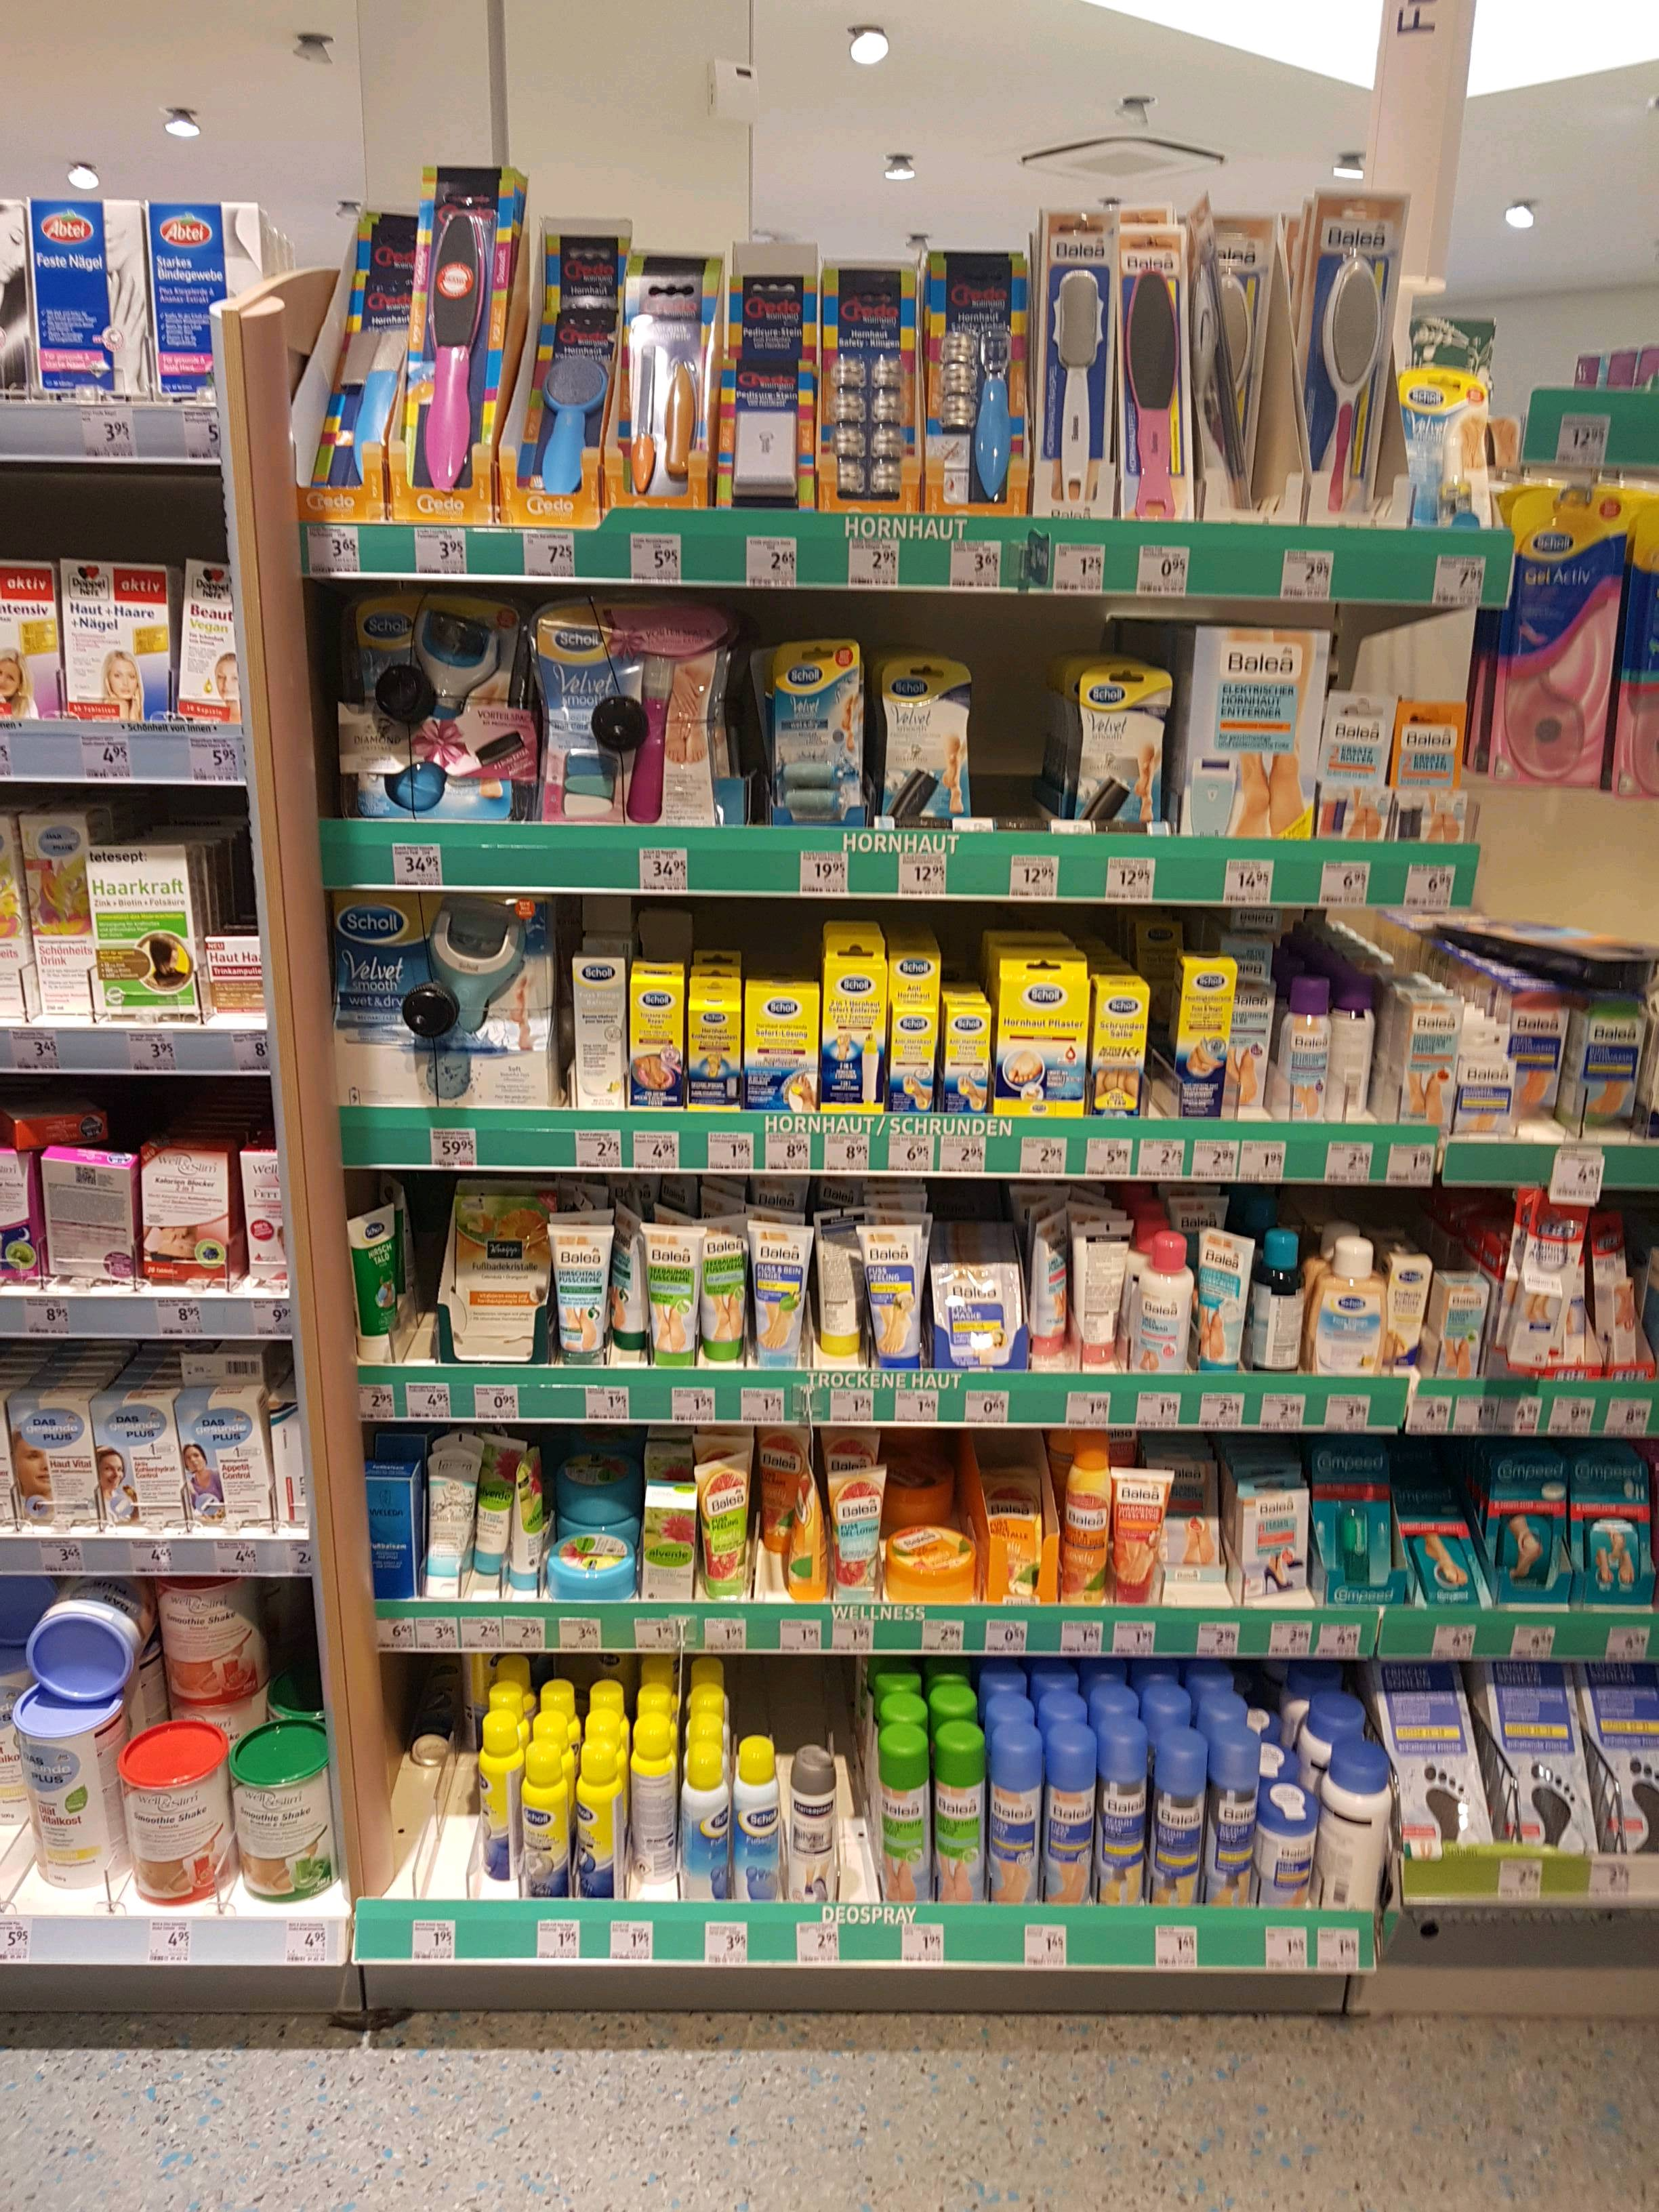product: (335, 895, 549, 1116), (1499, 495, 1615, 805), (568, 592, 730, 806), (1279, 193, 1380, 521), (308, 206, 411, 523), (364, 625, 540, 805), (509, 233, 622, 510), (1168, 622, 1310, 836), (1138, 230, 1223, 524), (932, 260, 1019, 510), (816, 266, 904, 510), (641, 230, 718, 507), (739, 260, 823, 510), (427, 211, 495, 502), (763, 624, 861, 824), (1051, 216, 1115, 519), (1047, 667, 1162, 831), (1500, 1646, 1593, 1850), (35, 195, 124, 401), (146, 211, 234, 418), (444, 1172, 538, 1364), (873, 658, 974, 836), (124, 1724, 218, 1909), (1410, 319, 1486, 523), (235, 1730, 326, 1898), (174, 1555, 272, 1709), (997, 954, 1089, 1113), (21, 1716, 106, 1886), (108, 853, 190, 1017), (138, 1129, 214, 1299), (2, 1378, 89, 1527), (70, 552, 146, 721), (0, 549, 63, 747), (1324, 1737, 1394, 1911), (1605, 1632, 1659, 1855), (188, 1383, 265, 1540), (1492, 1449, 1568, 1606), (1314, 1454, 1392, 1606), (31, 806, 89, 1001), (98, 1386, 173, 1534), (1415, 1667, 1471, 1865), (985, 1444, 1051, 1606), (19, 1595, 127, 1693), (49, 1153, 129, 1280), (993, 1723, 1047, 1909), (1584, 965, 1647, 1125), (1584, 1456, 1652, 1602), (870, 1723, 924, 1905), (929, 1719, 979, 1909), (1101, 1719, 1150, 1909), (749, 982, 817, 1116), (1321, 697, 1389, 831), (1385, 991, 1457, 1118), (788, 1743, 840, 1914), (1248, 1230, 1305, 1383), (1399, 711, 1467, 840), (823, 958, 880, 1109), (1053, 1724, 1100, 1909), (950, 1258, 1026, 1371), (739, 1731, 788, 1907), (1321, 1240, 1382, 1378), (1159, 1738, 1208, 1909), (174, 577, 235, 712), (636, 1712, 681, 1895), (1209, 1733, 1260, 1895), (1596, 1207, 1642, 1386), (244, 1143, 300, 1285), (1136, 1233, 1192, 1376), (1175, 965, 1227, 1115), (579, 1724, 622, 1904), (1066, 1421, 1110, 1601), (877, 1212, 931, 1357), (1241, 1472, 1305, 1592), (354, 1207, 404, 1360), (1410, 1468, 1469, 1599), (1511, 986, 1565, 1129), (685, 1730, 728, 1905), (758, 1219, 809, 1371), (559, 1230, 615, 1366), (570, 944, 617, 1104), (704, 1454, 753, 1608), (1075, 1209, 1121, 1372), (894, 1507, 974, 1599), (474, 1702, 514, 1883), (1175, 1465, 1229, 1595), (1199, 1235, 1248, 1376), (1117, 1467, 1164, 1608), (843, 1461, 890, 1602), (821, 1211, 863, 1367), (1234, 963, 1279, 1108), (206, 923, 279, 1012), (1286, 972, 1330, 1118), (525, 1742, 566, 1893), (640, 1491, 699, 1597), (270, 1371, 308, 1534), (1096, 986, 1143, 1118), (1028, 1209, 1068, 1364), (1270, 1775, 1316, 1909), (896, 963, 938, 1108), (631, 986, 680, 1109), (941, 995, 993, 1108), (425, 1451, 465, 1597), (1384, 1240, 1424, 1383), (368, 1467, 408, 1608), (690, 996, 739, 1108), (1516, 1219, 1553, 1367), (704, 1226, 744, 1359), (512, 1463, 554, 1588), (657, 1237, 697, 1367), (1333, 1005, 1380, 1115), (10, 1092, 112, 1143), (786, 1472, 829, 1588), (552, 1536, 619, 1611), (472, 1447, 504, 1588), (1471, 1031, 1513, 1132), (622, 1226, 653, 1348), (1434, 1282, 1469, 1388)
